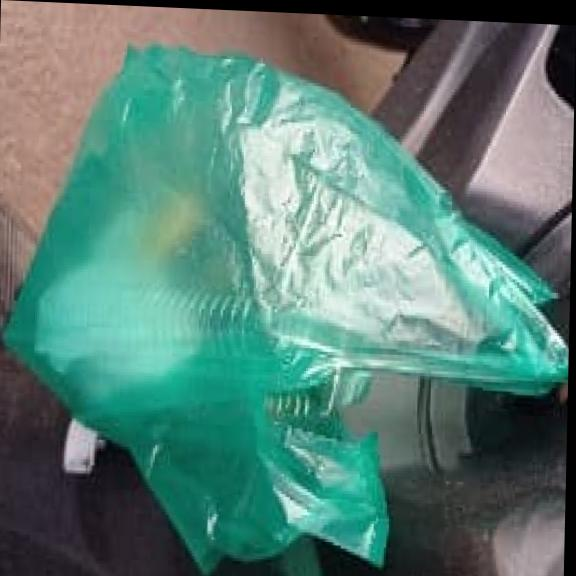Plastik: (3, 50, 569, 571)
